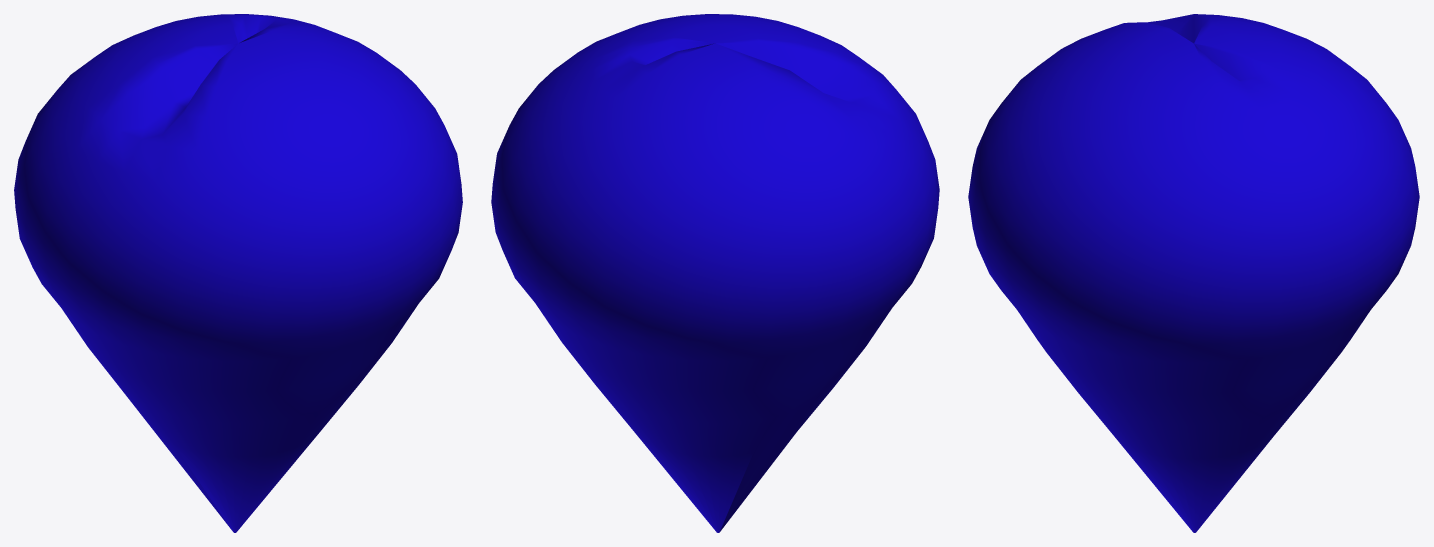
Rendered from blue_balloon.fbx.
The picture shows the model from 3 angles, left to right: view 1: azimuth 30°, elevation 25°; view 2: azimuth 150°, elevation 25°; view 3: azimuth 270°, elevation 25°; orthographic projection.
Parts seen in each view (by area): view 1: Sphere; view 2: Sphere; view 3: Sphere.
Part boxes in pixels (bbox=[...]): Sphere: bbox=[14, 14, 462, 532]; Sphere: bbox=[491, 14, 939, 532]; Sphere: bbox=[968, 14, 1419, 532].
Bounding box in the file's own units: 263 × 315 × 263.
